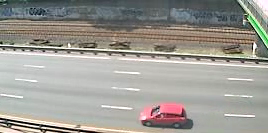car: (137, 101, 191, 130)
